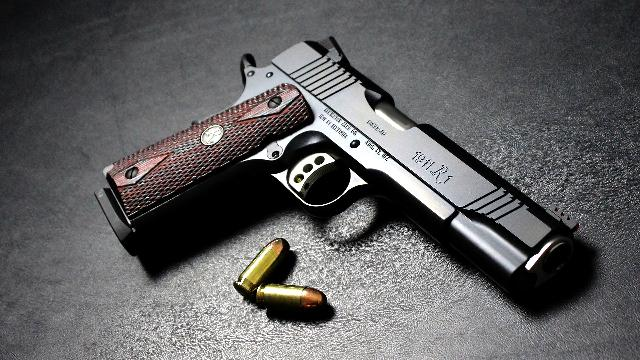pistol: (95, 36, 580, 284)
